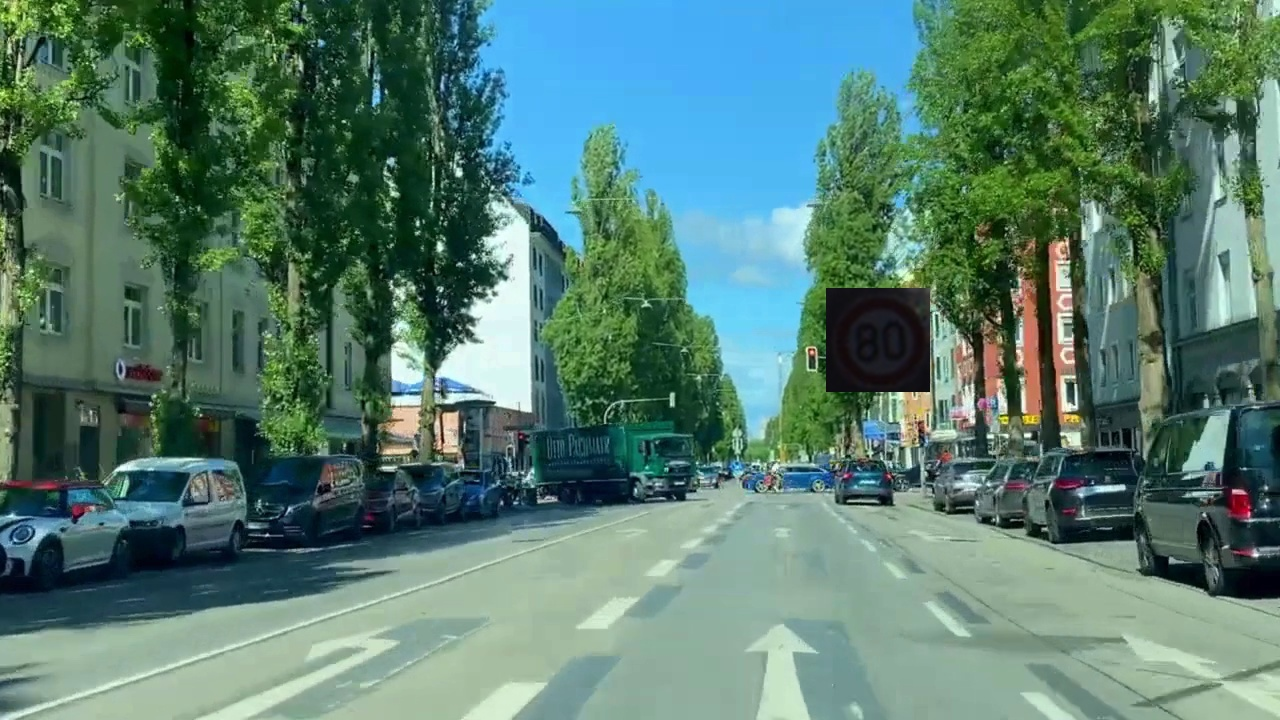Speed 80: (826, 288, 930, 392)
